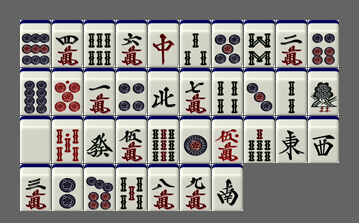0m: (212, 116, 243, 163)
0p: (52, 68, 83, 115)
0s: (52, 116, 83, 163)
1m: (84, 68, 115, 115)
1p: (180, 116, 211, 163)
1s: (308, 68, 339, 115)
1z: (276, 116, 307, 163)
2m: (276, 20, 307, 67)
2p: (52, 164, 83, 211)
2s: (276, 68, 307, 115)
2z: (212, 164, 243, 211)
3m: (20, 164, 51, 211)
3p: (244, 68, 275, 115)
3s: (180, 20, 211, 67)
3z: (308, 116, 339, 163)
4m: (52, 20, 83, 67)
4p: (116, 68, 147, 115)
4s: (212, 68, 243, 115)
4z: (148, 68, 179, 115)
5m: (116, 116, 147, 163)
5p: (212, 20, 243, 67)
5s: (116, 164, 147, 211)
5z: (20, 116, 51, 163)
6m: (116, 20, 147, 67)
6p: (308, 20, 339, 67)
6s: (84, 20, 115, 67)
6z: (84, 116, 115, 163)
7m: (180, 68, 211, 115)
7p: (84, 164, 115, 211)
7s: (244, 116, 275, 163)
7z: (148, 20, 179, 67)
8m: (148, 164, 179, 211)
8p: (20, 68, 51, 115)
8s: (244, 20, 275, 67)
9m: (180, 164, 211, 211)
9p: (20, 20, 51, 67)
9s: (148, 116, 179, 163)
